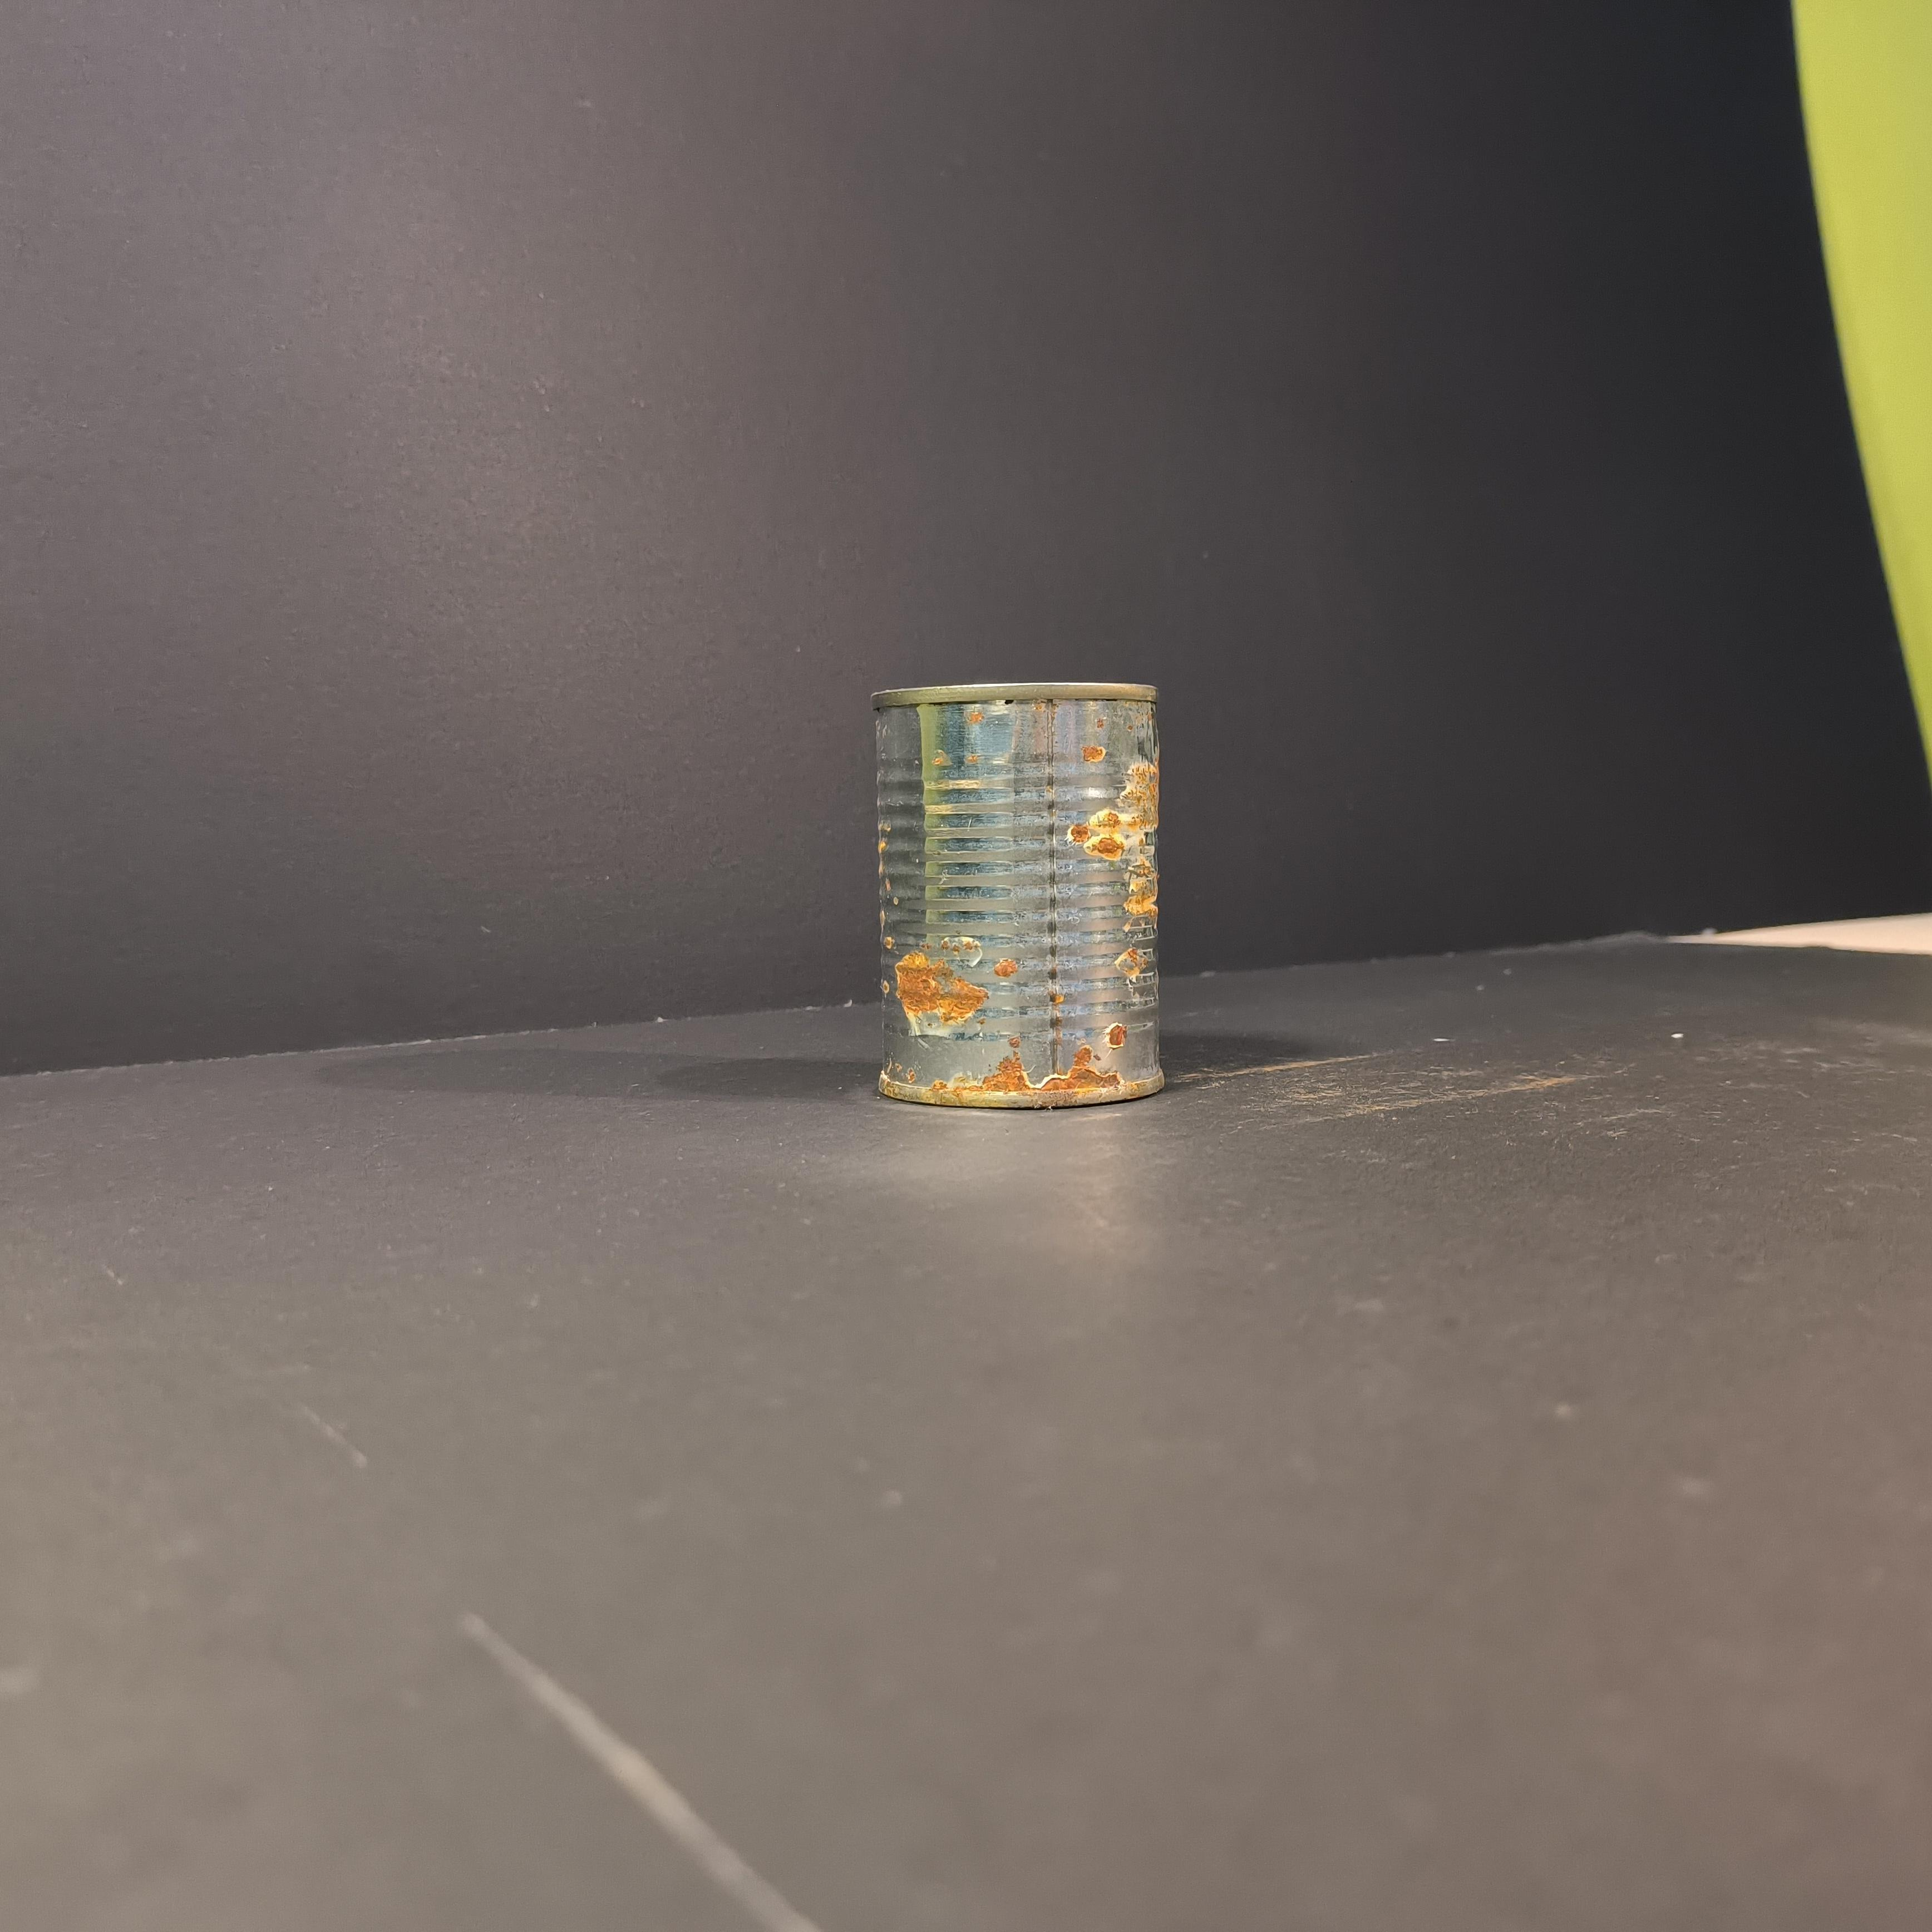Rusted: (851, 660, 1175, 1138)
